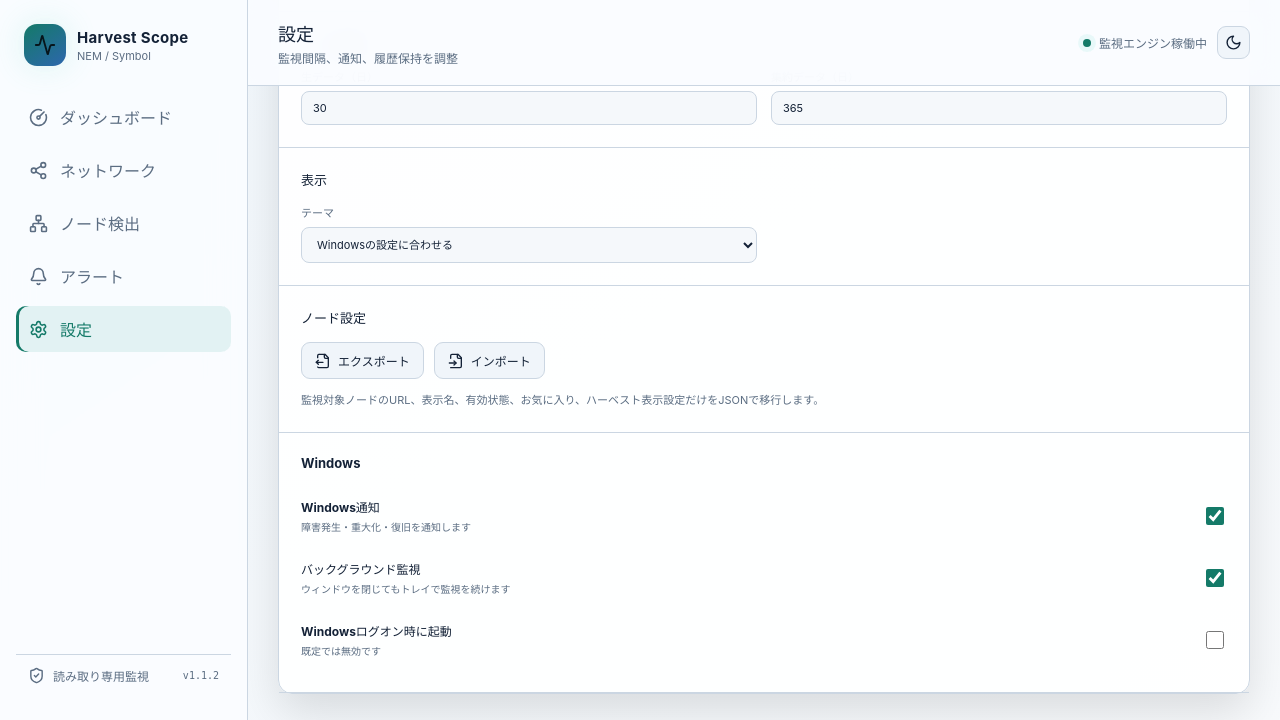
Test: 設定画面からノード設定をインポートして結果を表示する
(page scrolled)
Click the button "インポート": (489, 360) [434,342,545,379]
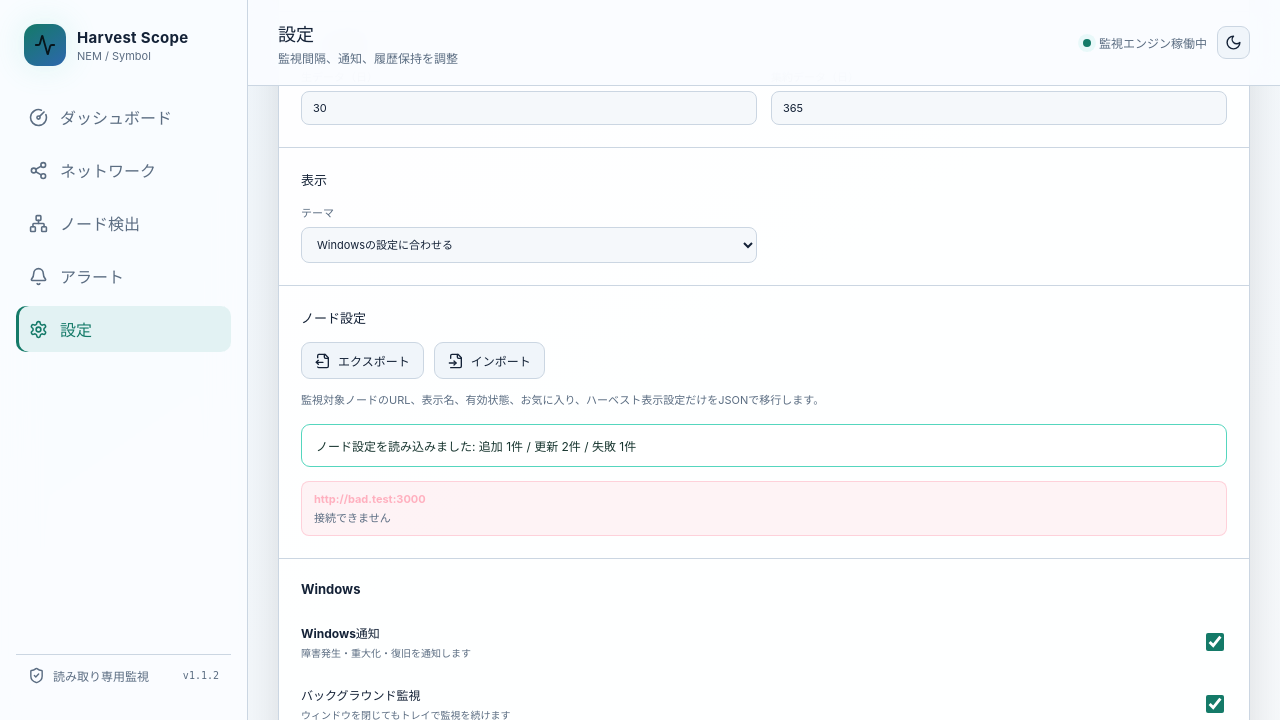
Now the text "ノード設定を読み込みました: 追加 1件 / 更新 2件 / 失敗 1件" is shown, box [301,424,1227,467]
Now the text "接続できません" is shown, box [314,511,391,525]
